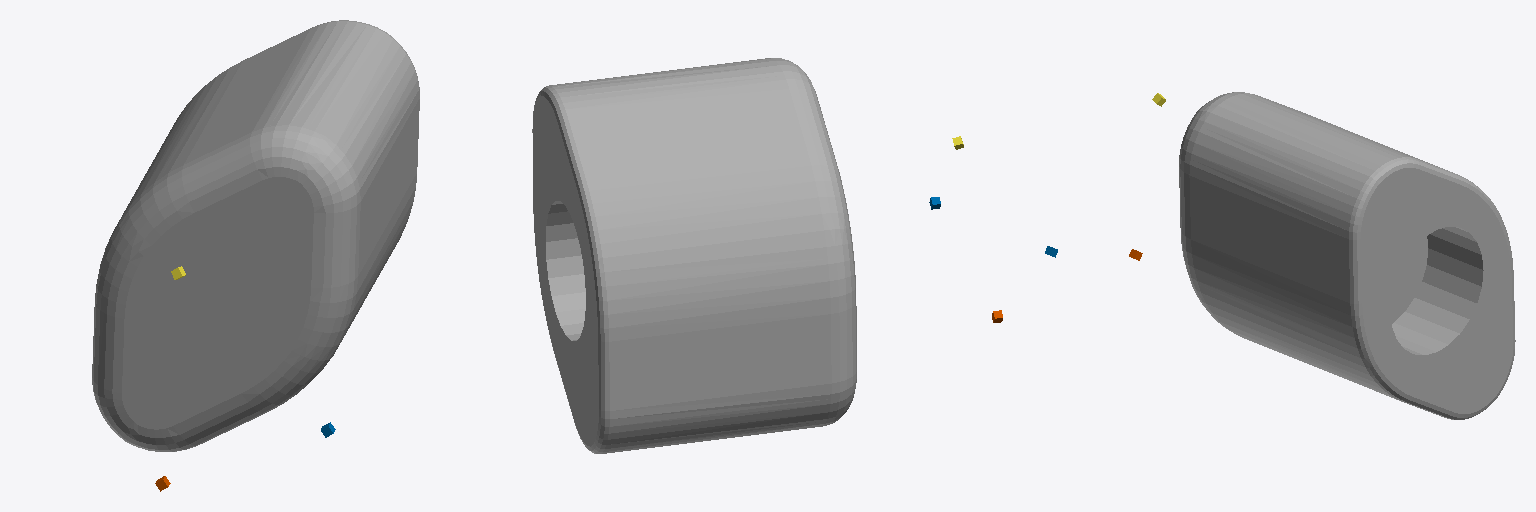
URDF robot description (aubo_i3):
<?xml version="1.0"?>
<robot name="aubo_i3">

  <link name="world" />
  <joint name="world_joint" type="fixed">
    <parent link="world" />
    <child link ="mounter" />
    <origin xyz="0.0 -0.658 0.0" rpy="0 0 0.02618" />
  </joint>

  <link name="mounter">
    <visual>
      <geometry>
        <mesh filename="package://aubo_description/meshes/aubo_i3/collision/mounter_front_new.stl"/>
      </geometry>
      <material name="LightGrey">
        <color rgba="0.7 0.7 0.7 1.0"/>
      </material>
    </visual>
    <collision>
      <geometry>
        <mesh filename="package://aubo_description/meshes/aubo_i3/collision/mounter_front_new.stl"/>
      </geometry>
    </collision>
    <!-- <inertial>
      <mass value="0.1" />
      <inertia ixx="0.00003" iyy="0.00003" izz="0.00003" ixy="0.0" ixz="0.0" iyz="0.0" />
    </inertial> -->
  </link>
  <joint name="mounter_joint" type="fixed">
    <parent link="mounter" />
    <child link = "base_link" />
    <origin xyz="0.0 0 0.0" rpy="3.14159 0.0 2.35621"/>
  </joint>

  <link name="base_link">
    <inertial>
      <origin xyz="2.1698E-06 0.00017917 0.036984" rpy="0 1.5708 0" />
      <mass value="0.97332" />
      <inertia ixx="0.0015063" ixy="0" ixz="0" iyy="0.0014907" iyz="0" izz="0.0019063" />
    </inertial>
    <visual>
      <origin xyz="0 0 0" rpy="0 0 0" />
      <geometry>
        <mesh filename="package://aubo_description/meshes/aubo_i3/visual/base_link.DAE" />
      </geometry>
      <material name="">
        <color rgba="0.29804 0.29804 0.29804 1" />
      </material>
    </visual>
    <collision>
      <origin  xyz="0 0 0"  rpy="0 0 0" />
      <geometry>
        <mesh filename="package://aubo_description/meshes/aubo_i3/collision/base_link.STL" />
      </geometry>
    </collision>
  </link>

  <link name="shoulder_Link">
    <inertial>
      <origin xyz="-2.9523E-07 0.0037104 -0.0023315" rpy="0 0 0" />
      <mass value="1.173" />
      <inertia ixx="0.0026259" ixy="0" ixz="0" iyy="0.0025333" iyz="0" izz="0.0016014" />
    </inertial>
    <visual>
      <origin xyz="0 0 0" rpy="0 0 0" />
      <geometry>
        <mesh filename="package://aubo_description/meshes/aubo_i3/visual/shoulder_Link.DAE" />
      </geometry>
      <material name="">
        <color rgba="0.29804 0.29804 0.29804 1" />
      </material>
    </visual>
    <collision>
      <origin xyz="0 0 0" rpy="0 0 0" />
      <geometry>
        <mesh filename="package://aubo_description/meshes/aubo_i3/collision/shoulder_Link.STL" />
      </geometry>
    </collision>
  </link>

  <joint name="shoulder_joint" type="revolute">
    <origin xyz="0 0 0.157" rpy="0 0 3.1416" />
    <parent link="base_link" />
    <child link="shoulder_Link" />
    <axis xyz="0 0 1" />
    <limit lower="-3.1415926" upper="3.1415926" effort="0" velocity="0" />
  </joint>

  <link name="upperArm_Link">
    <inertial>
      <origin xyz="0.1186 1.7713E-06 0.0063972" rpy="0 0 0" />
      <mass value="2.7791" />
      <inertia ixx="0.0046752" ixy="0" ixz="0.00015757" iyy="0.040156" iyz="0" izz="0.038401" />
    </inertial>
    <visual>
      <origin  xyz="0 0 0" rpy="0 0 0" />
      <geometry>
        <mesh filename="package://aubo_description/meshes/aubo_i3/visual/upperArm_Link.DAE" />
      </geometry>
      <material name="">
        <color rgba="0.29804 0.29804 0.29804 1" />
      </material>
    </visual>
    <collision>
      <origin xyz="0 0 0" rpy="0 0 0" />
      <geometry>
        <mesh filename="package://aubo_description/meshes/aubo_i3/collision/upperArm_Link.STL" />
      </geometry>
    </collision>
  </link>

  <joint name="upperArm_joint" type="revolute">
    <origin xyz="0 0.119 0" rpy="-1.5708 -1.5708 0" />
    <parent link="shoulder_Link" />
    <child link="upperArm_Link" />
    <axis xyz="0 0 1" />
    <limit lower="-2.0944" upper="2.0944" effort="0" velocity="0" />
  </joint>

  <link name="foreArm_Link">
    <inertial>
      <origin xyz="0.15095 3.6355E-05 0.1001" rpy="0 0 0" />
      <mass value="1.5214" />
      <inertia ixx="0.0014873" ixy="0" ixz="-0.00055006" iyy="0.016144" iyz="0" izz="0.015711" />
    </inertial>
    <visual>
      <origin xyz="0 0 0" rpy="0 0 0" />
      <geometry>
        <mesh filename="package://aubo_description/meshes/aubo_i3/visual/foreArm_Link.DAE" />
      </geometry>
      <material name="">
        <color rgba="0.77647 0.75686 0.73725 1" />
      </material>
    </visual>
    <collision>
      <origin xyz="0 0 0" rpy="0 0 0" />
      <geometry>
        <mesh filename="package://aubo_description/meshes/aubo_i3/collision/foreArm_Link.STL" />
      </geometry>
    </collision>
  </link>

  <joint name="foreArm_joint" type="revolute">
    <origin xyz="0.266 0 0" rpy="3.1416 0 0" />
    <parent link="upperArm_Link" />
    <child link="foreArm_Link" />
    <axis xyz="0 0 1" />
    <limit lower="-0.035" upper="3.1415926" effort="0" velocity="0" />
  </joint>

  <link name="wrist1_Link">
    <inertial>
      <origin xyz="-7.0582E-05 -0.0015345 -0.0029597" rpy="0 0 0" />
      <mass value="0.63348" />
      <inertia ixx="0.0009362" ixy="0" ixz="0" iyy="0.00051333" iyz="0" izz="0.00090515" />
    </inertial>
    <visual>
      <origin xyz="0 0 0" rpy="0 0 0" />
      <geometry>
        <mesh filename="package://aubo_description/meshes/aubo_i3/visual/wrist1_Link.DAE" />
      </geometry>
      <material name="">
        <color rgba="0.79216 0.81961 0.93333 1" />
      </material>
    </visual>
    <collision>
      <origin xyz="0 0 0" rpy="0 0 0" />
      <geometry>
        <mesh filename="package://aubo_description/meshes/aubo_i3/collision/wrist1_Link.STL" />
      </geometry>
    </collision>
  </link>

  <joint name="wrist1_joint" type="revolute">
    <origin xyz="0.2565 0 0" rpy="3.1416 0 1.5708" />
    <parent link="foreArm_Link" />
    <child link="wrist1_Link" />
    <axis xyz="0 0 1" />
    <limit lower="-1.3963" upper="1.3963" effort="0" velocity="0" />
  </joint>

  <link name="wrist2_Link">
    <inertial>
      <origin xyz="7.0582E-05 0.0015345 -0.0029597" rpy="0 0 0" />
      <mass value="0.63348" />
      <inertia ixx="0.0009362" ixy="0" ixz="0" iyy="0.00051333" iyz="7.4602E-06" izz="0.00090515" />
    </inertial>
    <visual>
      <origin xyz="0 0 0" rpy="0 0 0" />
      <geometry>
        <mesh filename="package://aubo_description/meshes/aubo_i3/visual/wrist2_Link.DAE" />
      </geometry>
      <material name="">
        <color rgba="0.79216 0.81961 0.93333 1" />
      </material>
    </visual>
    <collision>
      <origin xyz="0 0 0" rpy="0 0 0" />
      <geometry>
        <mesh filename="package://aubo_description/meshes/aubo_i3/collision/wrist2_Link.STL" />
      </geometry>
    </collision>
  </link>

  <joint name="wrist2_joint" type="revolute">
    <origin xyz="0 0.1025 0" rpy="-1.5708 0 0" />
    <parent link="wrist1_Link" />
    <child  link="wrist2_Link" />
    <axis xyz="0 0 1" />
    <limit lower="-3.1415926" upper="0.035" effort="0" velocity="0" />
  </joint>

  <link name="wrist3_Link">
    <inertial>
      <origin xyz="8.8789E-10 0.00040506 -0.01865" rpy="0 0 0" />
      <mass value="0.13713" />
      <inertia ixx="6.1911E-05" ixy="0"  ixz="0" iyy="5.9471E-05" iyz="2.8126E-07" izz="9.7957E-05" />
    </inertial>
    <visual>
      <origin xyz="0 0 0" rpy="0 0 0" />
      <geometry>
        <mesh filename="package://aubo_description/meshes/aubo_i3/visual/wrist3_Link.DAE" />
      </geometry>
      <material name="">
        <color rgba="0.25098 0.25098 0.25098 1" />
      </material>
    </visual>
    <collision>
      <origin  xyz="0 0 0" rpy="0 0 0" />
      <geometry>
        <mesh filename="package://aubo_description/meshes/aubo_i3/collision/wrist3_Link.STL" />
      </geometry>
    </collision>
  </link>

  <joint name="wrist3_joint" type="revolute">
    <origin xyz="0 -0.094 0" rpy="1.5708 0 0" />
    <parent link="wrist2_Link" />
    <child link="wrist3_Link" />
    <axis xyz="0 0 1" />
<!--    <limit lower="-1.570796327" upper="3.1415926" effort="0" velocity="0" />-->
    <limit lower="-1.0472" upper="2.618" effort="0" velocity="0" />
  </joint>

  <!-- modified line here -->
  <link name="ee_link">
      <visual>
        <geometry>
          <box size="0.005 0.005 0.005"/>
        </geometry>
        <origin rpy="0 0 0" xyz="0 0 0"/>
      </visual>
  </link>
  <joint name="ee_fixed_joint" type="fixed">
    <parent link="wrist3_Link" />
    <child link = "ee_link" />
    <origin xyz="0.0 0.0 0.0" rpy="0.0 -1.57079 0" />
  </joint>

  <link name="tool0"/>
  <joint name="wrist3_Link-tool0_fixed_joint" type="fixed">
    <origin xyz="0 0 0" rpy="-1.57079 0 0"/>
    <parent link="wrist3_Link"/>
    <child link="tool0"/>
  </joint>
  <link name="camera_link">
    <visual>
      <geometry>
        <box size="0.005 0.005 0.005"/>
      </geometry>
      <origin rpy="0 0 0" xyz="0 0 0"/>
    </visual>
  </link>
  <joint name="vision_joint" type="fixed">
      <origin xyz="0.189326 -0.050356 -0.002892" rpy="-0.998538 0.194956 -0.289171"/>
    <parent link="ee_link"/>
    <child link="camera_link"/>
  </joint>

  <link name="finger">
    <visual>
      <geometry>
        <box size="0.005 0.005 0.005"/>
      </geometry>
      <origin rpy="0 0 0" xyz="0 0 0"/>
    </visual>
  </link>
  <joint name="eelink_finger_joint" type="fixed">
      <origin xyz="0.200 0.024730 0.078580" rpy="-0.977384364 0 0"/>
    <parent link="ee_link"/>
    <child link="finger"/>
  </joint>

  <link name="palm">
    <visual>
      <geometry>
        <box size="0.005 0.005 0.005"/>
      </geometry>
      <origin rpy="0 0 0" xyz="0 0 0"/>
    </visual>
  </link>
  <joint name="eelink_palm_joint" type="fixed">
      <origin xyz="0.211430 0.059050 -0.005870" rpy="-0.977384364 0 0"/>
    <parent link="ee_link"/>
    <child link="palm"/>
  </joint>

  <link name="eef_link">
    <visual>
      <geometry>
        <mesh filename="package://aubo_description/meshes/aubo_i3/collision/eef_solid.stl"/>
      </geometry>
      <material name="LightGrey">
        <color rgba="0.7 0.7 0.7 1.0"/>
      </material>
    </visual>
    <collision>
      <geometry>
        <mesh filename="package://aubo_description/meshes/aubo_i3/collision/eef_solid.stl"/>
      </geometry>
    </collision>
    <!-- <inertial>
      <mass value="0.1" />
      <inertia ixx="0.00003" iyy="0.00003" izz="0.00003" ixy="0.0" ixz="0.0" iyz="0.0" />
    </inertial> -->
  </link>
  <joint name="eef_joint" type="fixed">
    <parent link="ee_link" />
    <child link = "eef_link" />
    <!-- <origin xyz="0.0 0.0 0.0" rpy="-0.610865 0 0.0" /> -->
    <origin xyz="0.005 0.0 0.0" rpy="-2.094395 0 0.0" />
  </joint>

</robot>

--- What the picture shows (computed from the rendered views, not written in the file) ---
Views: 3 orthographic renders of the robot side by side, from view 1: azimuth 30°, elevation 25°; view 2: azimuth 150°, elevation 25°; view 3: azimuth 270°, elevation 25°.
Model aubo_i3 with 15 links and 14 joints (6 revolute, 8 fixed), rooted at world, posed every joint at zero.
Links seen in each view (by area): view 1: eef_link; view 2: eef_link; view 3: eef_link.
Link boxes in pixels (left/top/right/bottom): eef_link: left=92, top=20, right=419, bottom=451; eef_link: left=532, top=58, right=856, bottom=453; eef_link: left=1179, top=92, right=1515, bottom=419.
Size in the robot's own frame: 0.2306 by 0.2788 by 0.1904 metres.
Meshes: 9 distinct files referenced, 1 mesh visuals loaded (1 binary STL); not drawn: 8 (reference not matched to a file when rendering).